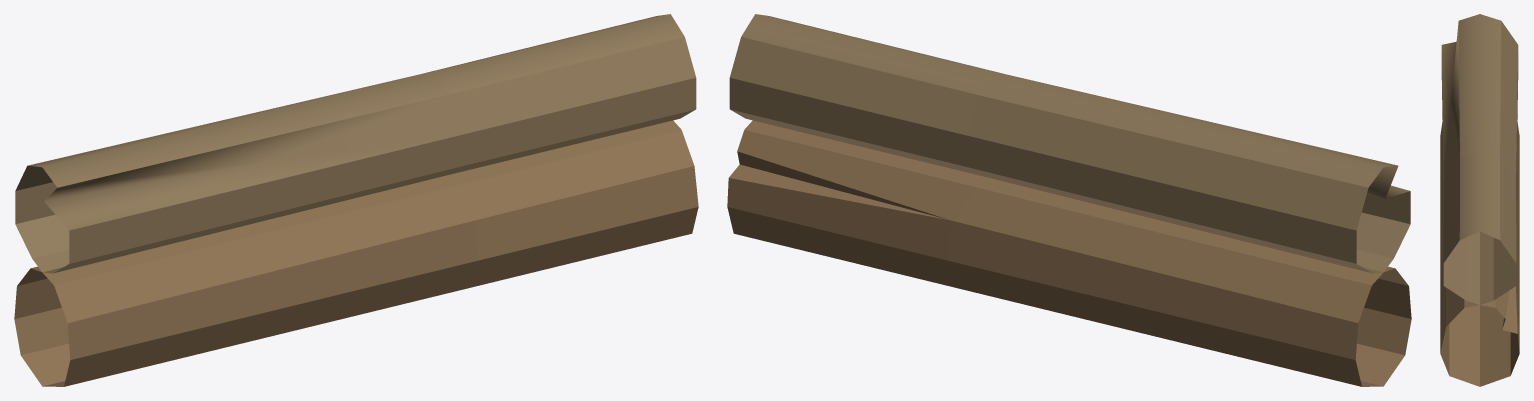
File: rpgpp_ag_wall_01_3x1_b.fbx
3 views of the same model, side by side, from view 1: azimuth 30°, elevation 25°; view 2: azimuth 150°, elevation 25°; view 3: azimuth 270°, elevation 25° (orthographic). The views are drawn at different scales.
Parts seen in each view (by area): view 1: rpgpp_ag_wall_01_3x1_b; view 2: rpgpp_ag_wall_01_3x1_b; view 3: rpgpp_ag_wall_01_3x1_b.
Part boxes in pixels (<box>): rpgpp_ag_wall_01_3x1_b: <box>14,14,698,386</box>; rpgpp_ag_wall_01_3x1_b: <box>727,14,1411,386</box>; rpgpp_ag_wall_01_3x1_b: <box>1440,14,1519,386</box>.
Bounding box in the file's own units: 3 × 1 × 0.4626.
